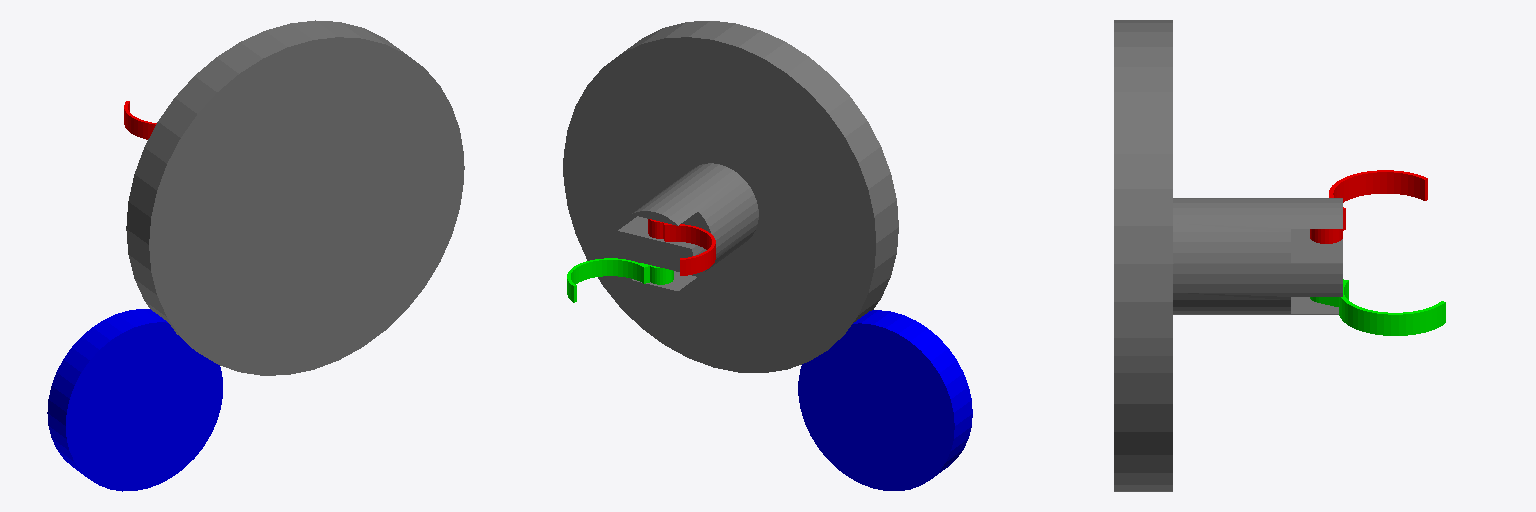
The robot description file, URDF, robot "dronewithgripper_urdf":
<?xml version="1.0" encoding="utf-8"?>

<robot
  name="dronewithgripper_urdf">




  <link
    name="base_link">
    <inertial>
      <origin
        xyz="0 0 0"
        rpy="0 0 0" />
      <mass
        value="1.5" />
      <inertia
        ixx="0.0020044"
        ixy="0"
        ixz="-4.5897E-36"
        iyy="0.0020044"
        iyz="-1.8972E-36"
        izz="0.003927" />
    </inertial>
    <visual>
      <origin
        xyz="0 0 0"
        rpy="0 0 0" />
      <geometry>
        <mesh
          filename="base_link.STL" />
      </geometry>
      <material
        name="">
        <color
          rgba="0.5 0.5 0.5 1" />
      </material>
    </visual>
    <collision>
      <origin
        xyz="0 0 0"
        rpy="0 0 0" />
      <geometry>
        <mesh
          filename="base_link.STL" />
      </geometry>
    </collision>
  </link>
  
  <link
    name="front_left_prop">
    <inertial>
      <origin
        xyz="0 0 0.01"
        rpy="0 0 0" />
      <mass
        value="0.015708" />
      <inertia
        ixx="0.00010341"
        ixy="0"
        ixz="1.8367E-37"
        iyy="0.00010341"
        iyz="-1.5178E-37"
        izz="0.00019635" />
    </inertial>
    <visual>
      <origin
        xyz="0 0 0"
        rpy="0 0 0" />
      <geometry>
        <mesh
          filename="front_left_prop.STL" />
      </geometry>
      <material
        name="">
        <color
          rgba="1 0 0 1" />
      </material>
    </visual>
    <collision>
      <origin
        xyz="0 0 0"
        rpy="0 0 0" />
      <geometry>
        <mesh
          filename="front_left_prop.STL" />
      </geometry>
    </collision>
  </link>
  <joint
    name="base_link_to_front_left_prop"
    type="fixed">
    <origin
      xyz="0.1 0 0.1"
      rpy="1.5708 0 0" />
    <parent
      link="base_link" />
    <child
      link="front_left_prop" />
    <axis
      xyz="0 0 0" />
  </joint>
  <link
    name="front_right_prop">
    <inertial>
      <origin
        xyz="0 0 0.01"
        rpy="0 0 0" />
      <mass
        value="0.015708" />
      <inertia
        ixx="0.00010341"
        ixy="0"
        ixz="1.8367E-37"
        iyy="0.00010341"
        iyz="-1.5178E-37"
        izz="0.00019635" />
    </inertial>
    <visual>
      <origin
        xyz="0 0 0"
        rpy="0 0 0" />
      <geometry>
        <mesh
          filename="front_right_prop.STL" />
      </geometry>
      <material
        name="">
        <color
          rgba="0 0.5 0.1 1" />
      </material>
    </visual>
    <collision>
      <origin
        xyz="0 0 0"
        rpy="0 0 0" />
      <geometry>
        <mesh
          filename="front_right_prop.STL" />
      </geometry>
    </collision>
  </link>
  <joint
    name="base_link_to_front_right_prop"
    type="fixed">
    <origin
      xyz="0.1 0 -0.1"
      rpy="1.5708 0 0" />
    <parent
      link="base_link" />
    <child
      link="front_right_prop" />
    <axis
      xyz="0 0 0" />
  </joint>
  <link
    name="back_right_prop">
    <inertial>
      <origin
        xyz="0 0 0.01"
        rpy="0 0 0" />
      <mass
        value="0.015708" />
      <inertia
        ixx="0.00010341"
        ixy="0"
        ixz="1.8367E-37"
        iyy="0.00010341"
        iyz="-1.5178E-37"
        izz="0.00019635" />
    </inertial>
    <visual>
      <origin
        xyz="0 0 0"
        rpy="0 0 0" />
      <geometry>
        <mesh
          filename="back_right_prop.STL" />
      </geometry>
      <material
        name="">
        <color
          rgba="0 0 1 1" />
      </material>
    </visual>
    <collision>
      <origin
        xyz="0 0 0"
        rpy="0 0 0" />
      <geometry>
        <mesh
          filename="back_right_prop.STL" />
      </geometry>
    </collision>
  </link>
  <joint
    name="base_link_to_back_right_prop"
    type="fixed">
    <origin
      xyz="-0.1 0 -0.1"
      rpy="1.5708 0 0" />
    <parent
      link="base_link" />
    <child
      link="back_right_prop" />
    <axis
      xyz="0 0 0" />
  </joint>
  <link
    name="back_left_prop">
    <inertial>
      <origin
        xyz="0 0 0.01"
        rpy="0 0 0" />
      <mass
        value="0.015708" />
      <inertia
        ixx="0.00010341"
        ixy="0"
        ixz="1.8367E-37"
        iyy="0.00010341"
        iyz="-1.5178E-37"
        izz="0.00019635" />
    </inertial>
    <visual>
      <origin
        xyz="0 0 0"
        rpy="0 0 0" />
      <geometry>
        <mesh
          filename="back_left_prop.STL" />
      </geometry>
      <material
        name="">
        <color
          rgba="0 0 1 1" />
      </material>
    </visual>
    <collision>
      <origin
        xyz="0 0 0"
        rpy="0 0 0" />
      <geometry>
        <mesh
          filename="back_left_prop.STL" />
      </geometry>
    </collision>
  </link>
  <joint
    name="base_link_to_back_left_prop"
    type="fixed">
    <origin
      xyz="-0.1 0 0.1"
      rpy="1.5708 0 0" />
    <parent
      link="base_link" />
    <child
      link="back_left_prop" />
    <axis
      xyz="0 0 0" />
  </joint>
  <link
    name="gripper_base_link">
    <inertial>
      <origin
        xyz="-4.0731E-19 -3.2475E-19 -0.052057"
        rpy="0 0 0" />
      <mass
        value="0.5" />
      <inertia
        ixx="6.5574E-05"
        ixy="5.1451E-22"
        ixz="-2.1603E-21"
        iyy="6.4816E-05"
        iyz="-1.2511E-21"
        izz="3.7324E-05" />
    </inertial>
    <visual>
      <origin
        xyz="0 0 0"
        rpy="0 0 0" />
      <geometry>
        <mesh
          filename="gripper_base_link.STL" />
      </geometry>
      <material
        name="">
        <color
          rgba="0.5 0.5 0.5 1" />
      </material>
    </visual>
    <collision>
      <origin
        xyz="0 0 0"
        rpy="0 0 0" />
      <geometry>
        <mesh
          filename="gripper_base_link.STL" />
      </geometry>
    </collision>
  </link>
  <joint
    name="base_link_to_gripper_base_link"
    type="fixed">
    <origin
      xyz="0 -0.02 0"
      rpy="1.5708 -1.5708 0" />
    <parent
      link="base_link" />
    <child
      link="gripper_base_link" />
    <axis
      xyz="0 0 0" />
  </joint>
  <link
    name="left_gripper_link">
    <inertial>
      <origin
        xyz="-0.0091167 -0.020188 -0.005"
        rpy="0 0 0" />
      <mass
        value="0.015" />
      <inertia
        ixx="1.0169E-06"
        ixy="-2.5912E-07"
        ixz="2.2345E-23"
        iyy="2.2321E-07"
        iyz="-2.1251E-23"
        izz="1.1988E-06" />
    </inertial>
    <visual>
      <origin
        xyz="0 0 0"
        rpy="0 0 0" />
      <geometry>
        <mesh
          filename="left_gripper_link.STL" />
      </geometry>
      <material
        name="">
        <color
          rgba="1 0 0 1" />
      </material>
    </visual>
    <collision>
      <origin
        xyz="0 0 0"
        rpy="0 0 0" />
      <geometry>
        <mesh
          filename="left_gripper_link.STL" />
      </geometry>
    </collision>
  </link>
  <joint
    name="gripper_base_link_to_left_gripper_link"
    type="revolute">
    <origin
      xyz="0.009 0 -0.085"
      rpy="1.5708 0.71283 -1.5708" />
    <parent
      link="gripper_base_link" />
    <child
      link="left_gripper_link" />
    <axis
      xyz="0 0 -1" />
    <limit
      lower="0"
      upper="-0.9"
      effort="0"
      velocity="0" />
  </joint>
  <link
    name="right_gripper_link">
    <inertial>
      <origin
        xyz="-0.0091167 -0.020188 -0.005"
        rpy="0 0 0" />
      <mass
        value="0.015" />
      <inertia
        ixx="1.0169E-06"
        ixy="-2.5912E-07"
        ixz="7.6703E-23"
        iyy="2.2321E-07"
        iyz="2.104E-22"
        izz="1.1988E-06" />
    </inertial>
    <visual>
      <origin
        xyz="0 0 0"
        rpy="0 0 0" />
      <geometry>
        <mesh
          filename="right_gripper_link.STL" />
      </geometry>
      <material
        name="">
        <color
          rgba="0 1 0 1" />
      </material>
    </visual>
    <collision>
      <origin
        xyz="0 0 0"
        rpy="0 0 0" />
      <geometry>
        <mesh
          filename="right_gripper_link.STL" />
      </geometry>
    </collision>
  </link>
  <joint
    name="gripper_base_link_to_right_gripper_link"
    type="revolute">
    <origin
      xyz="-0.009 0 -0.085"
      rpy="1.5708 0.48112 1.5708" />
    <parent
      link="gripper_base_link" />
    <child
      link="right_gripper_link" />
    <axis
      xyz="0 0 1" />
    <limit
      lower="0"
      upper="0.6"
      effort="0"
      velocity="0" />
  </joint>
</robot>

--- Render facts (derived) ---
3 views of the same robot in one strip: view 1: azimuth 30°, elevation 25°; view 2: azimuth 150°, elevation 25°; view 3: azimuth 270°, elevation 25° (orthographic).
Model dronewithgripper_urdf with 8 links and 7 joints (2 revolute, 5 fixed), rooted at base_link, posed every joint at zero.
Visible links, largest first — view 1: base_link, back_right_prop, left_gripper_link; view 2: base_link, back_right_prop, gripper_base_link, right_gripper_link, left_gripper_link; view 3: base_link, gripper_base_link, right_gripper_link, left_gripper_link.
Link boxes in pixels (<box>): base_link: <box>126,20,464,375</box>; back_right_prop: <box>47,309,222,491</box>; left_gripper_link: <box>124,101,156,139</box>; base_link: <box>563,21,898,372</box>; back_right_prop: <box>798,310,972,490</box>; gripper_base_link: <box>616,163,758,294</box>; right_gripper_link: <box>567,258,673,302</box>; left_gripper_link: <box>648,219,715,275</box>; base_link: <box>1114,20,1172,491</box>; gripper_base_link: <box>1173,198,1342,314</box>; right_gripper_link: <box>1310,279,1445,335</box>; left_gripper_link: <box>1310,170,1427,243</box>.
Bounding box of the posed robot: 0.25 × 0.1406 × 0.2499 m (x, y, z).
Meshes: 8 distinct files referenced, 5 mesh visuals loaded (5 binary STL); not drawn: 3 (reference not matched to a file when rendering).